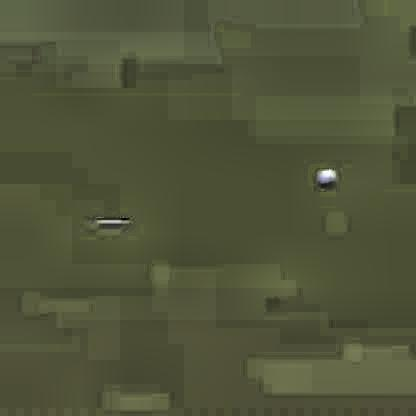golfball: (314, 166, 334, 186)
